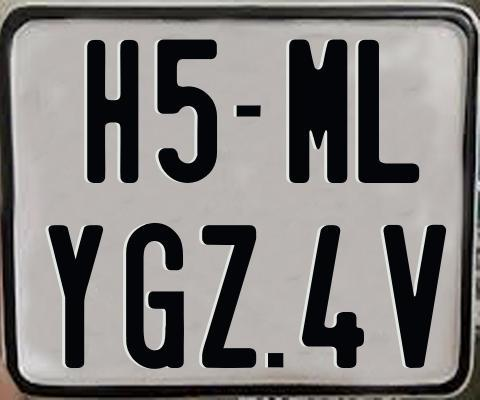4: (300, 224, 363, 369)
5: (157, 36, 219, 184)
G: (126, 222, 185, 370)
H: (86, 38, 144, 183)
L: (357, 37, 423, 181)
M: (286, 36, 345, 186)
V: (382, 222, 449, 366)
Y: (46, 224, 101, 368)
Z: (199, 222, 255, 365)
